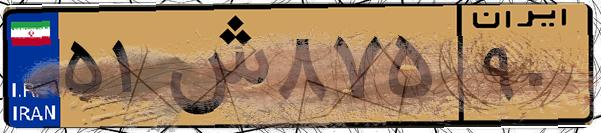0: (525, 38, 570, 115)
1: (110, 28, 158, 98)
5: (385, 28, 445, 110), (57, 26, 110, 100)
7: (330, 28, 385, 110)
8: (270, 28, 330, 110)
9: (475, 38, 525, 113)
ش: (158, 12, 270, 120)
